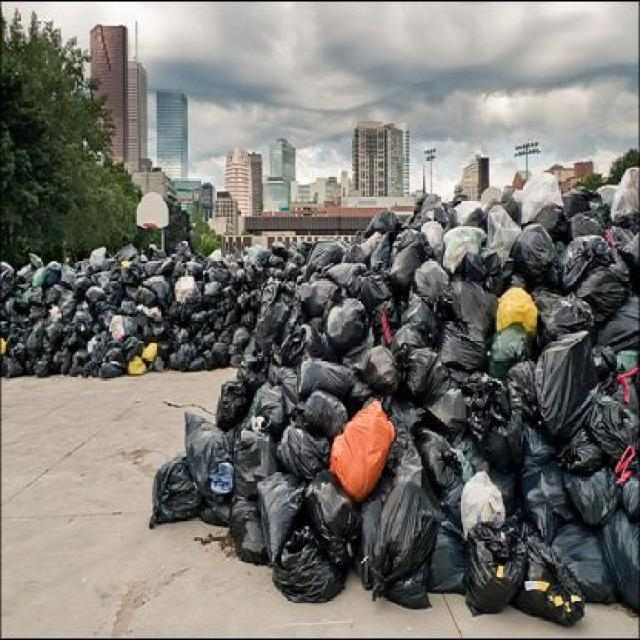garbage: (182, 285, 640, 608), (375, 176, 634, 410), (9, 236, 298, 359)
